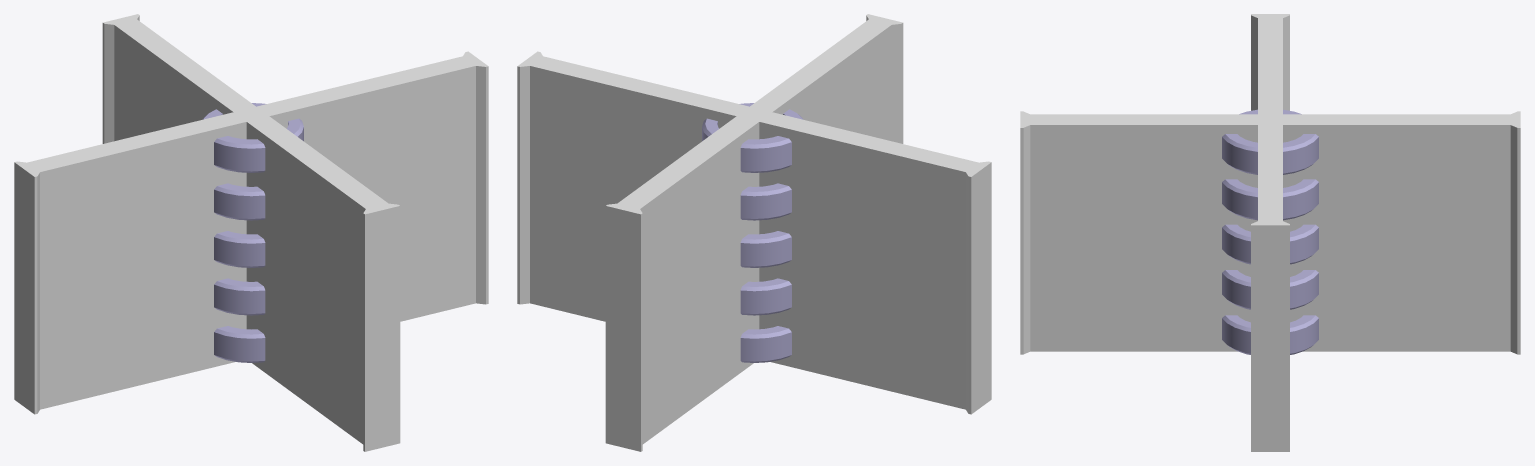
The model's file is wall_corners_four.fbx.
3 views of the same model, side by side, from view 1: azimuth 30°, elevation 25°; view 2: azimuth 150°, elevation 25°; view 3: azimuth 270°, elevation 25° (orthographic). The views are drawn at different scales.
Visible parts, largest first — view 1: pCube114; view 2: pCube114; view 3: pCube114.
Boxes of the visible parts, left/top/right/bottom form: pCube114: left=14, top=14, right=488, bottom=451; pCube114: left=517, top=14, right=991, bottom=451; pCube114: left=1020, top=14, right=1520, bottom=451.
Bounding box in the file's own units: 10 × 5 × 10.
